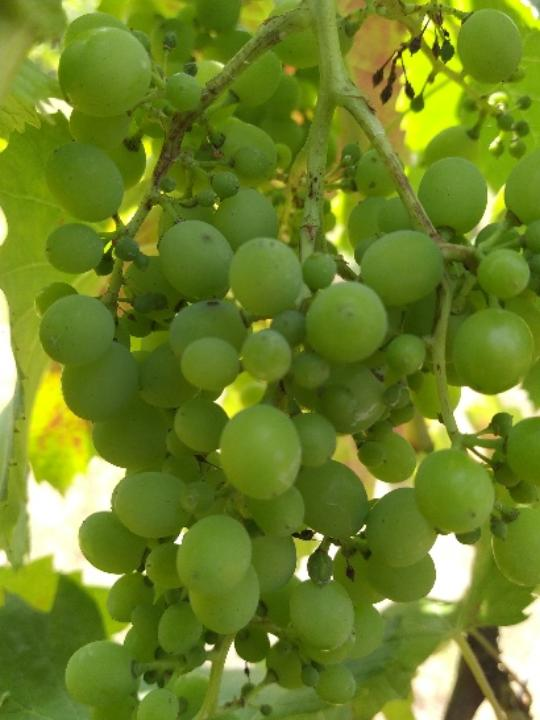grape: (8, 7, 540, 720)
